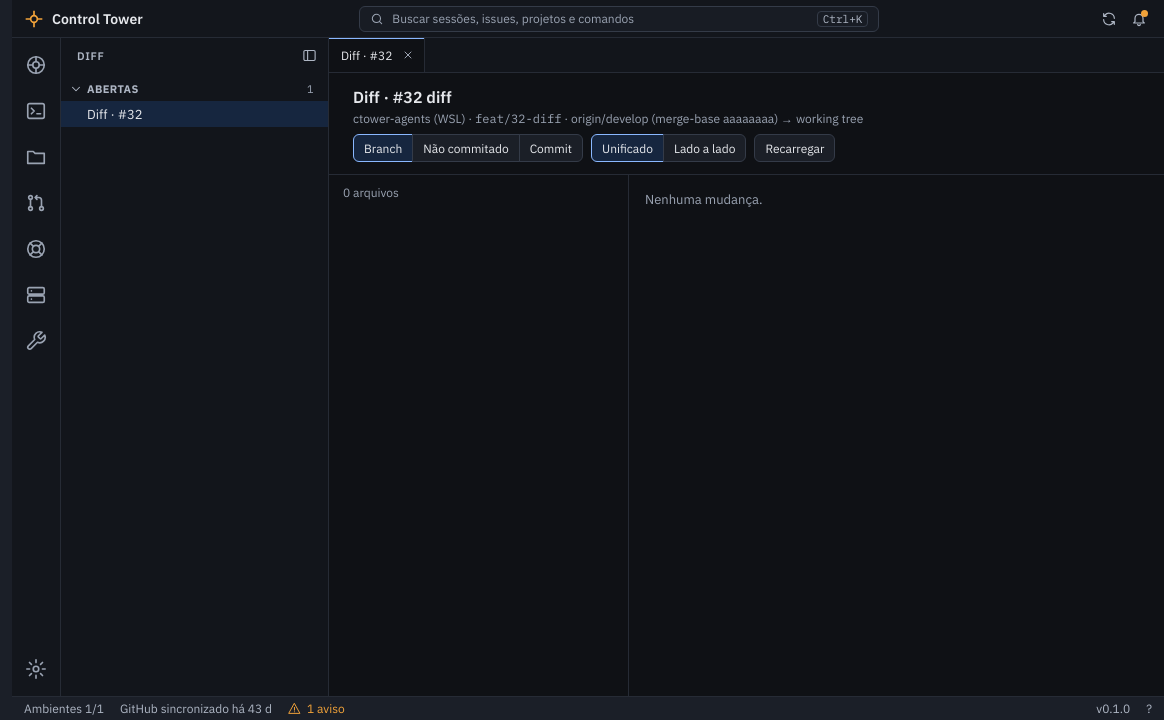
Test: sem mudanças: avisa no lugar do patch
Expected: the text "Nenhuma mudança." is shown, [645,191,763,208]
Click the button "Não commitado" at {"x": 466, "y": 148}, box [412,134,520,162]
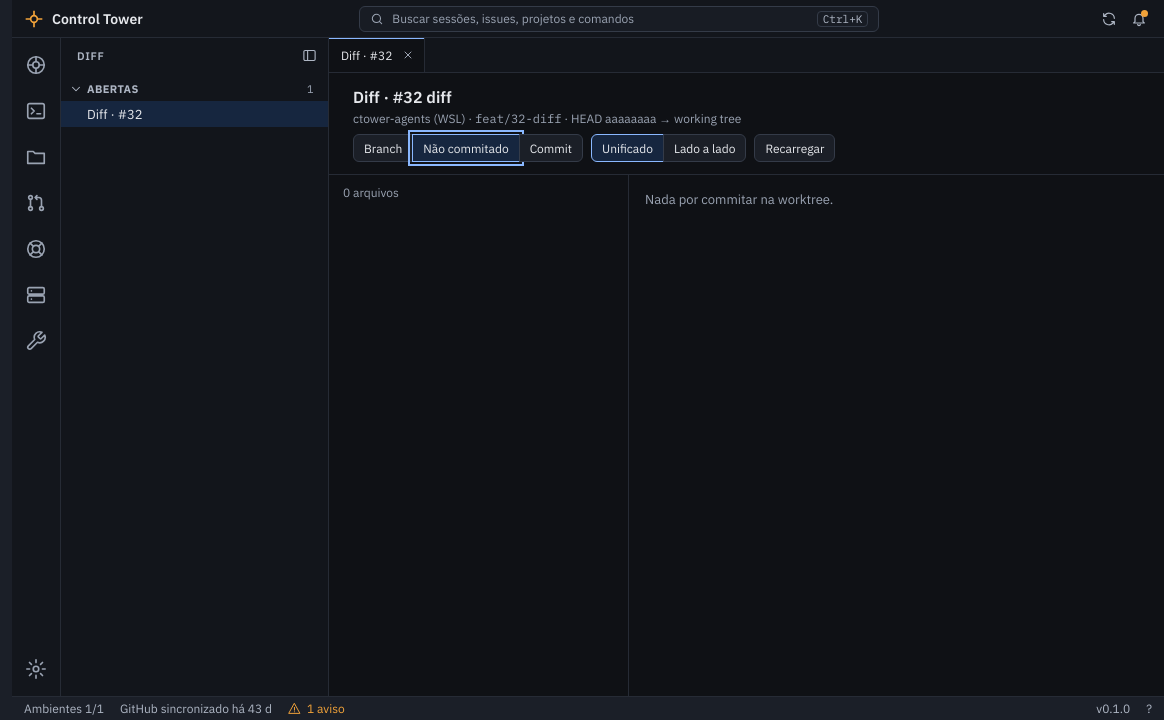
Now the text "Nada por commitar na worktree." is shown, box [645,191,833,208]
